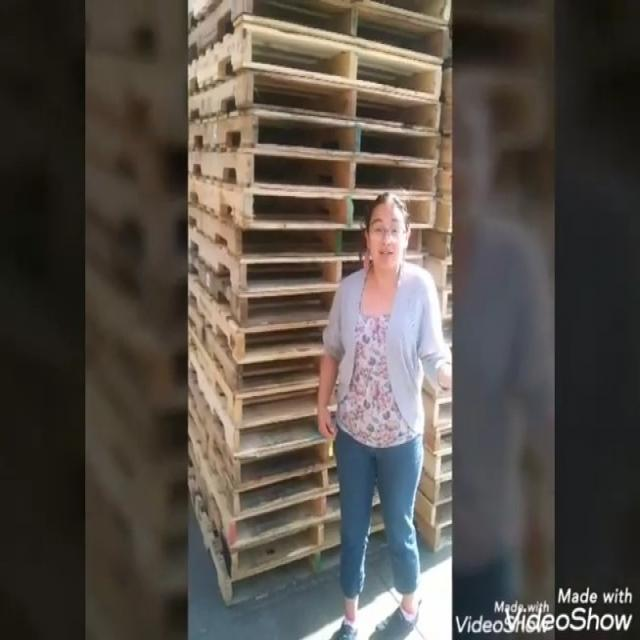Palette: (192, 5, 431, 593), (430, 7, 456, 571)
